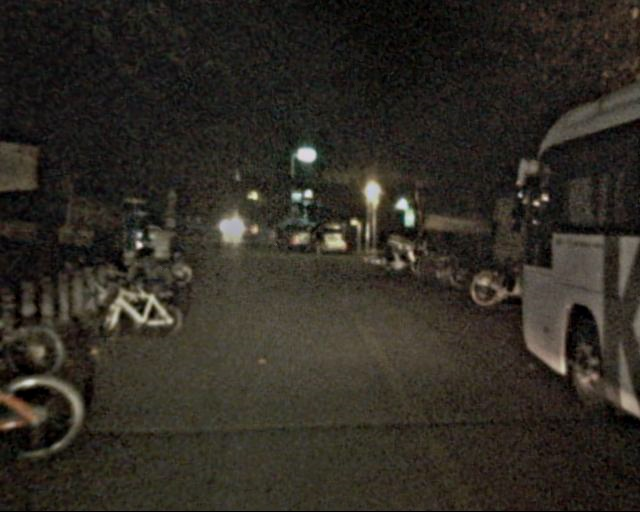person: (148, 218, 177, 288), (310, 225, 326, 263), (270, 221, 285, 257)
